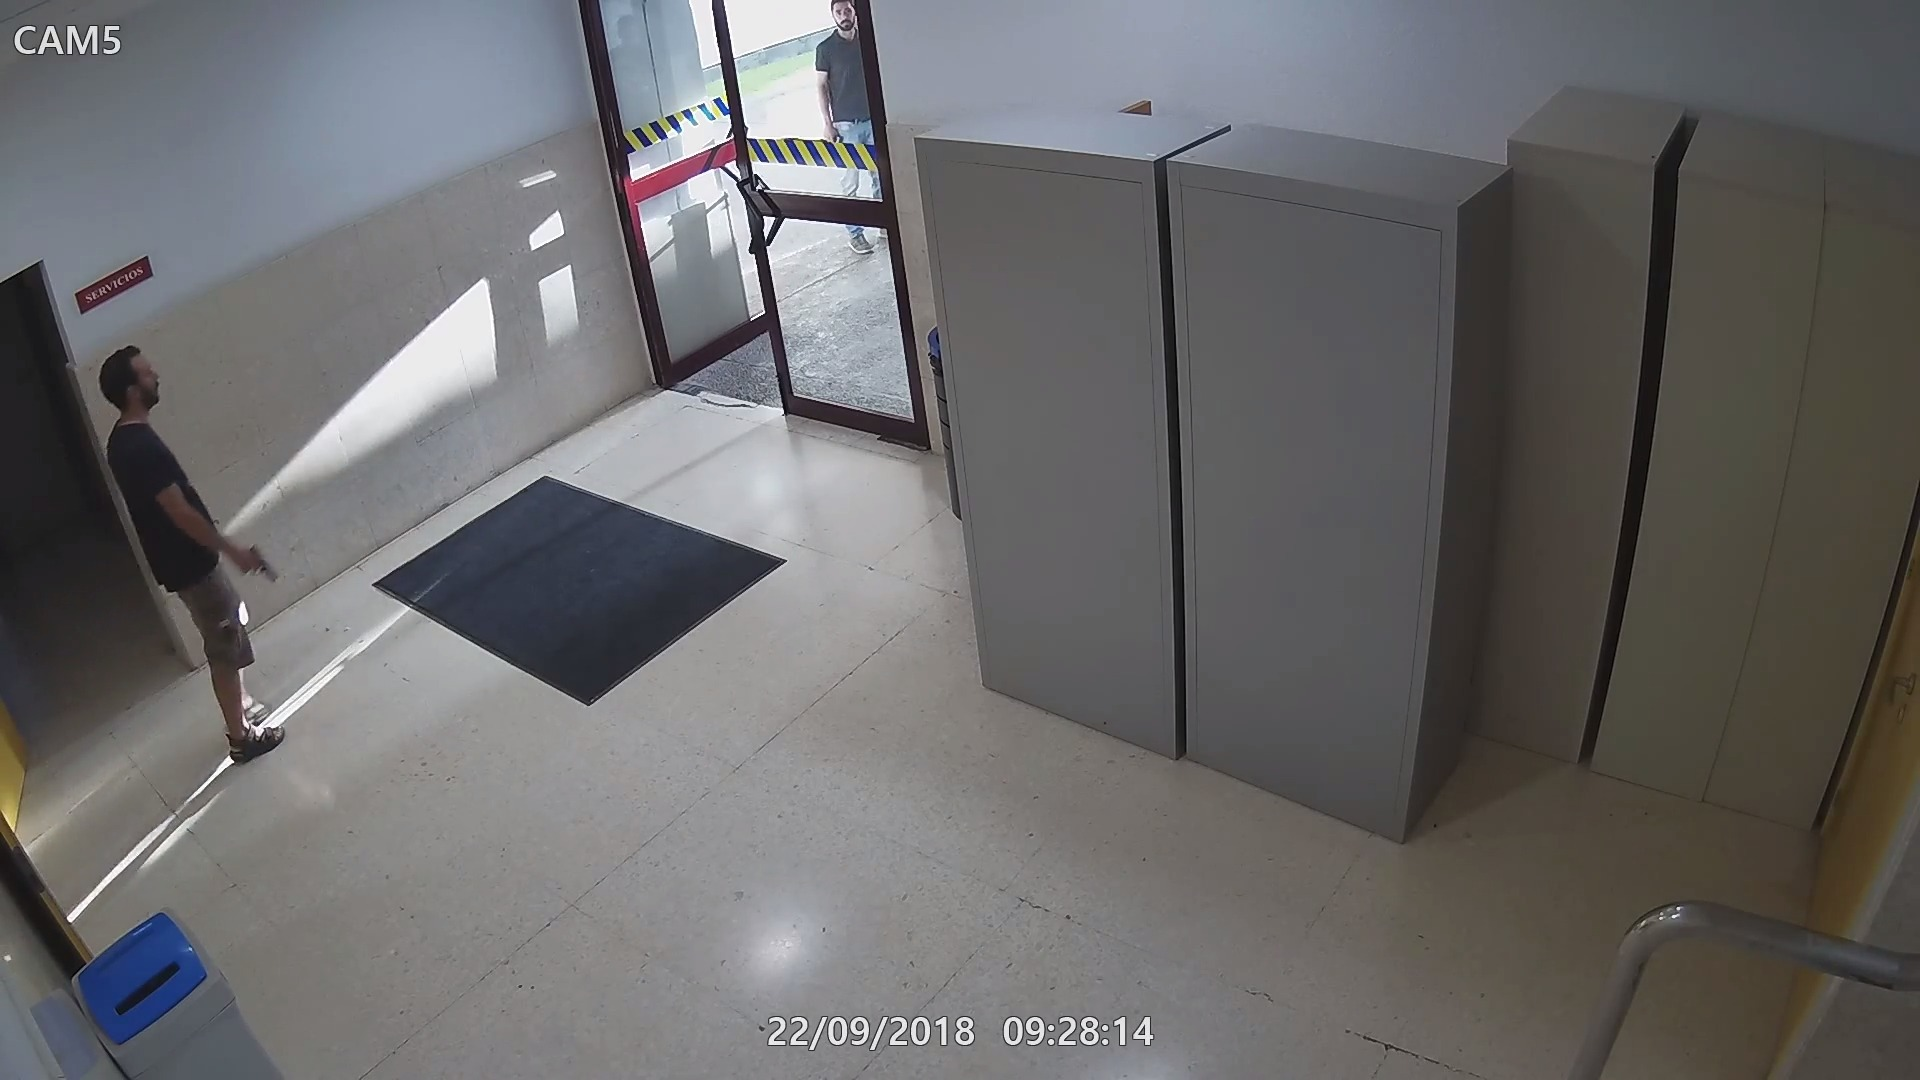Handgun: (227, 541, 280, 582)
